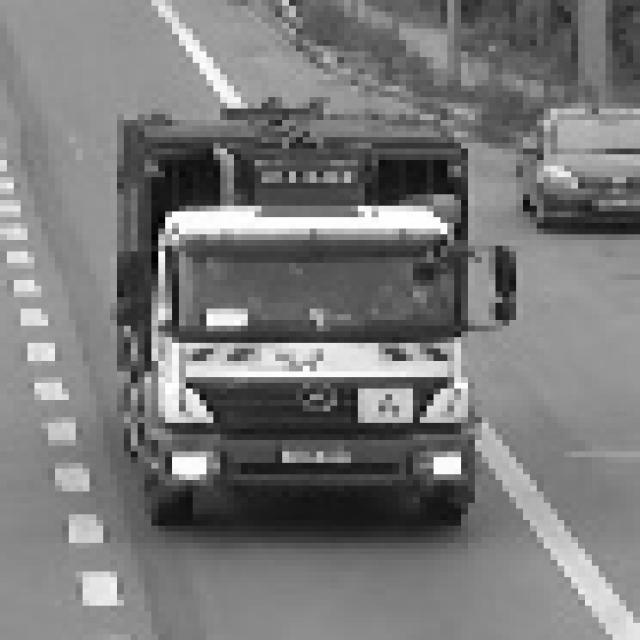truck: (98, 181, 511, 527)
